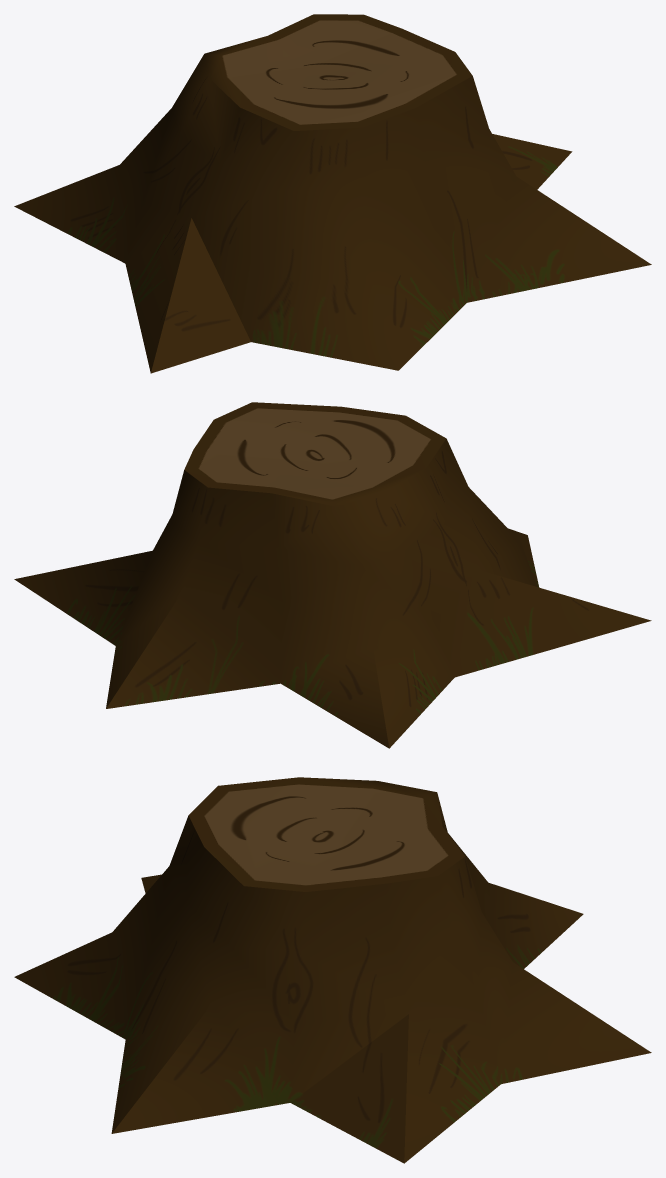
The model's file is pen (2).fbx.
3 views of the same model, one above another, from view 1: azimuth 30°, elevation 25°; view 2: azimuth 150°, elevation 25°; view 3: azimuth 270°, elevation 25° (orthographic). The views are drawn at different scales.
Visible parts, largest first — view 1: Stump_average_flat; view 2: Stump_average_flat; view 3: Stump_average_flat.
Part boxes in pixels (left/top/right/bottom): Stump_average_flat: left=14, top=14, right=651, bottom=373; Stump_average_flat: left=14, top=402, right=651, bottom=748; Stump_average_flat: left=14, top=777, right=651, bottom=1163.
Bounding box in the file's own units: 336 × 103 × 317.
